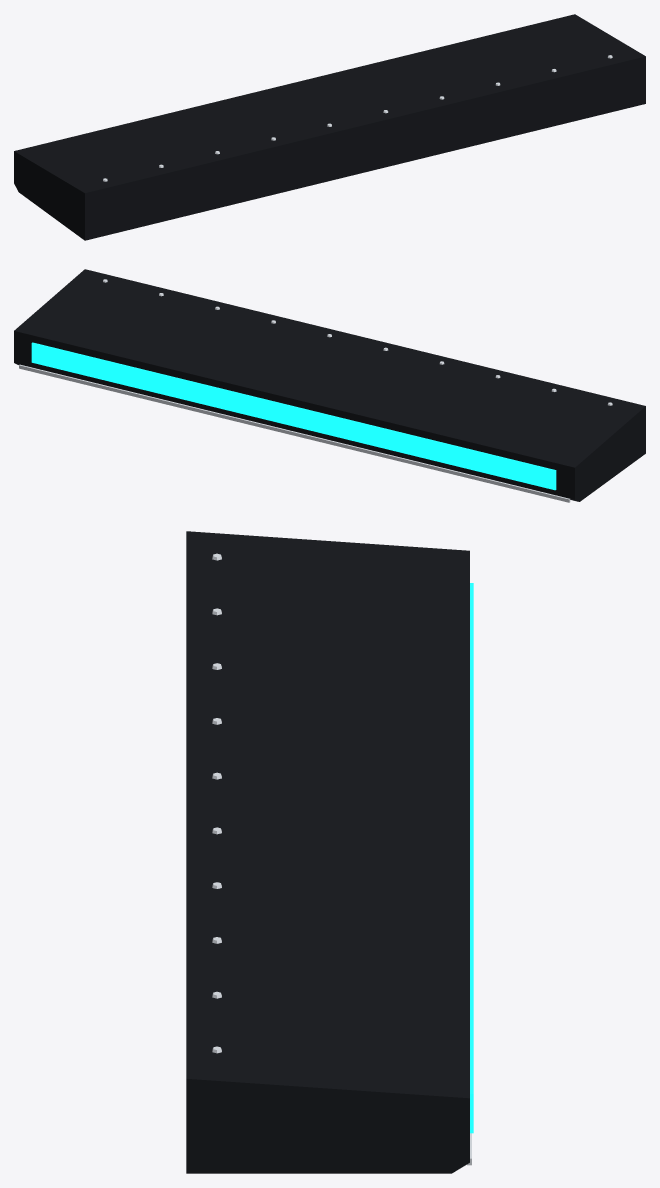
File: visor_single_line.glb
3 views of the same model, one above another, from view 1: azimuth 30°, elevation 25°; view 2: azimuth 150°, elevation 25°; view 3: azimuth 270°, elevation 25° (orthographic). The views are drawn at different scales.
Parts seen in each view (by area): view 1: visor_single_line_deco_body; view 2: visor_single_line_deco_body, visor_single_line_deco_neon, visor_single_line_chrome; view 3: visor_single_line_deco_body, visor_single_line_deco_neon.
Boxes of the visible parts, x1,y1,x2,y2 form: visor_single_line_deco_body: [14, 14, 645, 240]; visor_single_line_deco_body: [14, 269, 645, 501]; visor_single_line_deco_neon: [31, 342, 556, 490]; visor_single_line_chrome: [19, 279, 612, 502]; visor_single_line_deco_body: [186, 531, 469, 1173]; visor_single_line_deco_neon: [470, 583, 473, 1133].
Size of the model in its own units: 2.1 by 0.1755 by 0.466.
